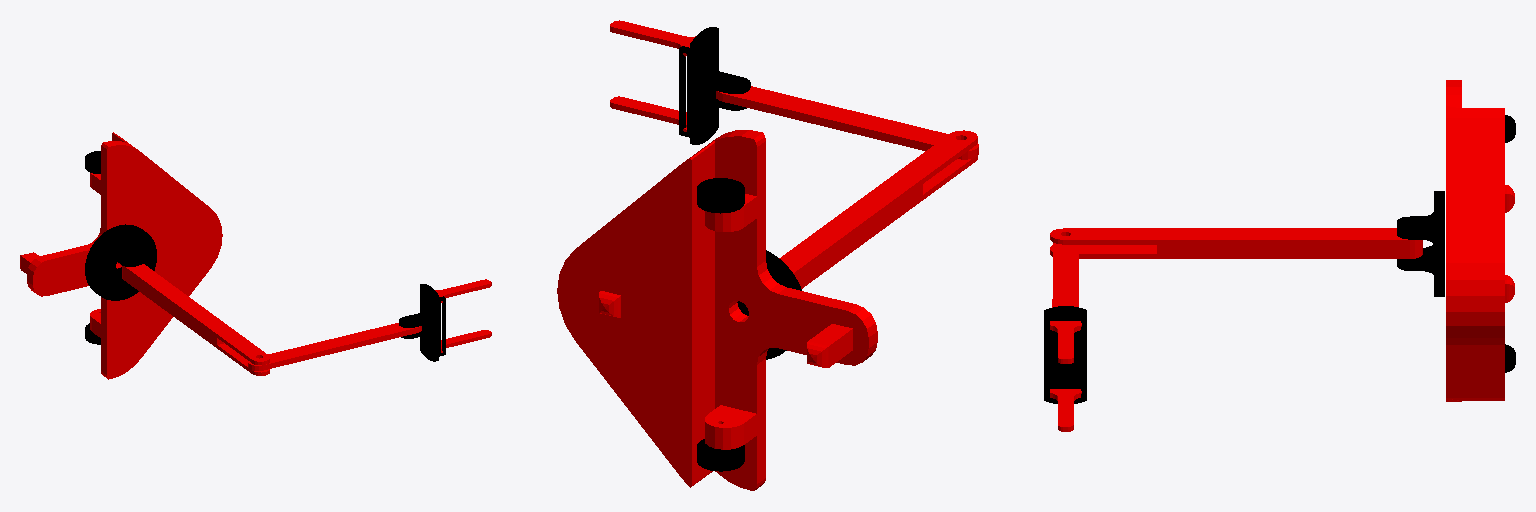
The robot description file, URDF, robot "medibot":
<?xml version="1.0" encoding="utf-8"?>
<!-- This URDF was automatically created by SolidWorks to URDF Exporter! Originally created by [author] ([email redacted]) 
     Commit Version: 1.6.0-4-g7f85cfe  Build Version: 1.6.7995.38578
     For more information, please see http://wiki.ros.org/sw_urdf_exporter -->
<robot
  name="medibot">
  <link
    name="base_link">
    <inertial>
      <origin
        xyz="0.26407 -0.20563 -2.4701E-08"
        rpy="0 0 0" />
      <mass
        value="210.34" />
      <inertia
        ixx="26.206"
        ixy="-1.1416"
        ixz="-7.5529E-06"
        iyy="38.898"
        iyz="3.5248E-07"
        izz="15.618" />
    </inertial>
    <visual>
      <origin
        xyz="0 0 0"
        rpy="0 0 0" />
      <geometry>
        <mesh
          filename="package://medibot/meshes/base_link.STL" />
      </geometry>
      <material
        name="">
        <color
          rgba="1 0 0 1" />
      </material>
    </visual>
    <collision>
      <origin
        xyz="0 0 0"
        rpy="0 0 0" />
      <geometry>
        <mesh
          filename="package://medibot/meshes/base_link.STL" />
      </geometry>
    </collision>
  </link>
  <link
    name="right_wheel_link">
    <inertial>
      <origin
        xyz="3.0531E-16 2.7756E-17 -0.0381"
        rpy="0 0 0" />
      <mass
        value="1.5322" />
      <inertia
        ixx="0.0051046"
        ixy="2.1684E-19"
        ixz="-1.3831E-19"
        iyy="0.0051046"
        iyz="4.3387E-19"
        izz="0.0091888" />
    </inertial>
    <visual>
      <origin
        xyz="0 0 0"
        rpy="0 0 0" />
      <geometry>
        <mesh
          filename="package://medibot/meshes/right_wheel_link.STL" />
      </geometry>
      <material
        name="">
        <color
          rgba="0 0 0 1" />
      </material>
    </visual>
    <collision>
      <origin
        xyz="0 0 0"
        rpy="0 0 0" />
      <geometry>
        <mesh
          filename="package://medibot/meshes/right_wheel_link.STL" />
      </geometry>
    </collision>
  </link>
  <joint
    name="right_wheel_joint"
    type="continuous">
    <origin
      xyz="0 -0.1016 -0.56515"
      rpy="0 0 0.99209" />
    <parent
      link="base_link" />
    <child
      link="right_wheel_link" />
    <axis
      xyz="0 0 1" />
  </joint>
  <link
    name="left_wheel_link">
    <inertial>
      <origin
        xyz="-2.6368E-16 1.6653E-16 0.0381"
        rpy="0 0 0" />
      <mass
        value="1.5322" />
      <inertia
        ixx="0.0051046"
        ixy="6.5052E-19"
        ixz="-3.0022E-19"
        iyy="0.0051046"
        iyz="9.2589E-19"
        izz="0.0091888" />
    </inertial>
    <visual>
      <origin
        xyz="0 0 0"
        rpy="0 0 0" />
      <geometry>
        <mesh
          filename="package://medibot/meshes/left_wheel_link.STL" />
      </geometry>
      <material
        name="">
        <color
          rgba="0 0 0 1" />
      </material>
    </visual>
    <collision>
      <origin
        xyz="0 0 0"
        rpy="0 0 0" />
      <geometry>
        <mesh
          filename="package://medibot/meshes/left_wheel_link.STL" />
      </geometry>
    </collision>
  </link>
  <joint
    name="left_wheel_joint"
    type="continuous">
    <origin
      xyz="0 -0.1016 0.56515"
      rpy="0 0 0.99209" />
    <parent
      link="base_link" />
    <child
      link="left_wheel_link" />
    <axis
      xyz="0 0 1" />
  </joint>
  <link
    name="shoulder_link">
    <inertial>
      <origin
        xyz="-0.046074 -4.6313E-17 8.8577E-18"
        rpy="0 0 0" />
      <mass
        value="12.432" />
      <inertia
        ixx="0.35557"
        ixy="1.8284E-17"
        ixz="2.6445E-17"
        iyy="0.21292"
        iyz="9.9025E-19"
        izz="0.20107" />
    </inertial>
    <visual>
      <origin
        xyz="0 0 0"
        rpy="0 0 0" />
      <geometry>
        <mesh
          filename="package://medibot/meshes/shoulder_link.STL" />
      </geometry>
      <material
        name="">
        <color
          rgba="0 0 0 1" />
      </material>
    </visual>
    <collision>
      <origin
        xyz="0 0 0"
        rpy="0 0 0" />
      <geometry>
        <mesh
          filename="package://medibot/meshes/shoulder_link.STL" />
      </geometry>
    </collision>
  </link>
  <joint
    name="shoulder_joint"
    type="revolute">
    <origin
      xyz="0 -0.33655 0"
      rpy="3.1416 0 1.5708" />
    <parent
      link="base_link" />
    <child
      link="shoulder_link" />
    <axis
      xyz="1 0 0" />
    <limit
      lower="-3.14"
      upper="3.14"
      effort="1000"
      velocity="10" />
  </joint>
  <link
    name="upper_arm_link">
    <inertial>
      <origin
        xyz="2.0161E-16 0.7122 -1.3205E-16"
        rpy="0 0 0" />
      <mass
        value="19.092" />
      <inertia
        ixx="4.0783"
        ixy="-5.1776E-16"
        ixz="-2.5741E-19"
        iyy="0.044116"
        iyz="2.4518E-16"
        izz="4.071" />
    </inertial>
    <visual>
      <origin
        xyz="0 0 0"
        rpy="0 0 0" />
      <geometry>
        <mesh
          filename="package://medibot/meshes/upper_arm_link.STL" />
      </geometry>
      <material
        name="">
        <color
          rgba="1 0 0 1" />
      </material>
    </visual>
    <collision>
      <origin
        xyz="0 0 0"
        rpy="0 0 0" />
      <geometry>
        <mesh
          filename="package://medibot/meshes/upper_arm_link.STL" />
      </geometry>
    </collision>
  </link>
  <joint
    name="upper_arm_joint"
    type="revolute">
    <origin
      xyz="-0.1778 0 0"
      rpy="1.5708 1.5708 3.1417" />
    <parent
      link="shoulder_link" />
    <child
      link="upper_arm_link" />
    <axis
      xyz="1 0 0" />
    <limit
      lower="-1.724"
      upper="1.6"
      effort="1000"
      velocity="10" />
  </joint>
  <link
    name="forearm_link">
    <inertial>
      <origin
        xyz="0 -0.5588 -3.08714524865529E-16"
        rpy="0 0 0" />
      <mass
        value="5.85882853421145" />
      <inertia
        ixx="0.727571239504238"
        ixy="7.79270320769273E-17"
        ixz="-1.34562525520913E-10"
        iyy="0.00860398076338021"
        iyz="-4.96431104018498E-17"
        izz="0.734757764586194" />
    </inertial>
    <visual>
      <origin
        xyz="0 0 0"
        rpy="0 0 0" />
      <geometry>
        <mesh
          filename="package://medibot/meshes/forearm_link.STL" />
      </geometry>
      <material
        name="">
        <color
          rgba="1 0 0 1" />
      </material>
    </visual>
    <collision>
      <origin
        xyz="0 0 0"
        rpy="0 0 0" />
      <geometry>
        <mesh
          filename="package://medibot/meshes/forearm_link.STL" />
      </geometry>
    </collision>
  </link>
  <joint
    name="forearm_joint"
    type="revolute">
    <origin
      xyz="0 1.6256 0"
      rpy="-1.5708 0 1.5708" />
    <parent
      link="upper_arm_link" />
    <child
      link="forearm_link" />
    <axis
      xyz="0 0 1" />
    <limit
      lower="-1.278"
      upper="4.421"
      effort="1000"
      velocity="10" />
  </joint>
  <link
    name="wrist_link">
    <inertial>
      <origin
        xyz="-0.118648814072355 -2.44680794939558E-16 -4.44089209850063E-16"
        rpy="0 0 0" />
      <mass
        value="4.35433420414567" />
      <inertia
        ixx="0.0793234207582875"
        ixy="3.48443075169667E-18"
        ixz="-4.28268639274364E-18"
        iyy="0.0309744477679611"
        iyz="7.01449159444982E-19"
        izz="0.0792232632613355" />
    </inertial>
    <visual>
      <origin
        xyz="0 0 0"
        rpy="0 0 0" />
      <geometry>
        <mesh
          filename="package://medibot/meshes/wrist_link.STL" />
      </geometry>
      <material
        name="">
        <color
          rgba="0 0 0 1" />
      </material>
    </visual>
    <collision>
      <origin
        xyz="0 0 0"
        rpy="0 0 0" />
      <geometry>
        <mesh
          filename="package://medibot/meshes/wrist_link.STL" />
      </geometry>
    </collision>
  </link>
  <joint
    name="wrist_joint"
    type="revolute">
    <origin
      xyz="0 -1.1176 0"
      rpy="1.5708 0 1.5708" />
    <parent
      link="forearm_link" />
    <child
      link="wrist_link" />
    <axis
      xyz="0 1 0" />
    <limit
      lower="-2.065"
      upper="2.065"
      effort="1000"
      velocity="10" />
  </joint>
  <link
    name="left_finger_link">
    <inertial>
      <origin
        xyz="0.190057084391042 0.0127 4.44089209850063E-16"
        rpy="0 0 0" />
      <mass
        value="0.954391471331755" />
      <inertia
        ixx="0.000881419815259494"
        ixy="6.72210099030885E-20"
        ixz="-4.57361267253083E-19"
        iyy="0.0171927460500775"
        iyz="1.62287750665423E-19"
        izz="0.0164130909530631" />
    </inertial>
    <visual>
      <origin
        xyz="0 0 0"
        rpy="0 0 0" />
      <geometry>
        <mesh
          filename="package://medibot/meshes/left_finger_link.STL" />
      </geometry>
      <material
        name="">
        <color
          rgba="1 0 0 1" />
      </material>
    </visual>
    <collision>
      <origin
        xyz="0 0 0"
        rpy="0 0 0" />
      <geometry>
        <mesh
          filename="package://medibot/meshes/left_finger_link.STL" />
      </geometry>
    </collision>
  </link>
  <joint
    name="left_finger_joint"
    type="prismatic">
    <origin
      xyz="-0.15875 -0.16484 0"
      rpy="0 0 3.1416" />
    <parent
      link="wrist_link" />
    <child
      link="left_finger_link" />
    <axis
      xyz="0 1 0" />
    <limit
      lower="0"
      upper="0.16"
      effort="0"
      velocity="0" />
  </joint>
  <link
    name="right_finger_link">
    <inertial>
      <origin
        xyz="0.190057084391041 0.0127 4.44089209850063E-16"
        rpy="0 0 0" />
      <mass
        value="0.954391471331755" />
      <inertia
        ixx="0.000881419815259493"
        ixy="6.18099304954257E-20"
        ixz="5.61142716223079E-18"
        iyy="0.0171927460500775"
        iyz="-1.31288886796317E-19"
        izz="0.016413090953063" />
    </inertial>
    <visual>
      <origin
        xyz="0 0 0"
        rpy="0 0 0" />
      <geometry>
        <mesh
          filename="package://medibot/meshes/right_finger_link.STL" />
      </geometry>
      <material
        name="">
        <color
          rgba="1 0 0 1" />
      </material>
    </visual>
    <collision>
      <origin
        xyz="0 0 0"
        rpy="0 0 0" />
      <geometry>
        <mesh
          filename="package://medibot/meshes/right_finger_link.STL" />
      </geometry>
    </collision>
  </link>
  <joint
    name="right_finger_joint"
    type="prismatic">
    <origin
      xyz="-0.15875 0.1649 0"
      rpy="3.1416 0 3.1416" />
    <parent
      link="wrist_link" />
    <child
      link="right_finger_link" />
    <axis
      xyz="0 1 0" />
    <limit
      lower="0"
      upper="0.16"
      effort="0"
      velocity="0" />
  </joint>


  <!-- ros2_control hardware interface for Gazebo -->
  <ros2_control name="GazeboSimSystem" type="system">
    <hardware>
      <plugin>gz_ros2_control/GazeboSimSystem</plugin>
    </hardware>

    <!-- Differential drive wheels: velocity-controlled -->
    <joint name="left_wheel_joint">
      <command_interface name="velocity"/>
      <state_interface name="position"/>
      <state_interface name="velocity"/>
    </joint>

    <joint name="right_wheel_joint">
      <command_interface name="velocity"/>
      <state_interface name="position"/>
      <state_interface name="velocity"/>
    </joint>

    <!-- Arm joints: position-controlled -->
    <joint name="shoulder_joint">
      <command_interface name="position"/>
      <state_interface name="position"/>
      <state_interface name="velocity"/>
    </joint>

    <joint name="upper_arm_joint">
      <command_interface name="position"/>
      <state_interface name="position"/>
      <state_interface name="velocity"/>
    </joint>

    <joint name="forearm_joint">
      <command_interface name="position"/>
      <state_interface name="position"/>
      <state_interface name="velocity"/>
    </joint>

    <joint name="wrist_joint">
      <command_interface name="position"/>
      <state_interface name="position"/>
      <state_interface name="velocity"/>
    </joint>

    <!-- Gripper fingers: position-controlled prismatic joints -->
    <joint name="left_finger_joint">
      <command_interface name="position"/>
      <state_interface name="position"/>
      <state_interface name="velocity"/>
    </joint>

    <joint name="right_finger_joint">
      <command_interface name="position"/>
      <state_interface name="position"/>
      <state_interface name="velocity"/>
    </joint>
  </ros2_control>

  <gazebo>
    <plugin filename="gz_ros2_control-system"
            name="gz_ros2_control::GazeboSimROS2ControlPlugin">
      <!-- Where to read URDF from -->
          <parameters>[local-path]/hospital_ws/install/medibot/share/medibot/config/medibot_controllers.yaml</parameters>
      <robot_param>robot_description</robot_param>
      <robot_param_node>robot_state_publisher</robot_param_node>
    </plugin>
  </gazebo>
</robot>

--- What the picture shows (computed from the rendered views, not written in the file) ---
Views: 3 orthographic renders of the robot side by side, from view 1: azimuth 30°, elevation 25°; view 2: azimuth 150°, elevation 25°; view 3: azimuth 270°, elevation 25°.
Robot: medibot — 9 links, 8 joints (4 revolute, 2 continuous, 2 prismatic); root link base_link; default pose: all joints at 0.
Links seen in each view (by area): view 1: base_link, upper_arm_link, shoulder_link, forearm_link, wrist_link; view 2: base_link, upper_arm_link, forearm_link, wrist_link, left_wheel_link, left_finger_link, right_wheel_link, right_finger_link, shoulder_link; view 3: base_link, upper_arm_link, wrist_link, shoulder_link, forearm_link, left_finger_link, right_finger_link.
Boxes of the visible links, left/top/right/bottom form: base_link: left=20, top=132, right=222, bottom=379; upper_arm_link: left=122, top=264, right=269, bottom=375; shoulder_link: left=85, top=224, right=156, bottom=300; forearm_link: left=248, top=323, right=421, bottom=370; wrist_link: left=399, top=284, right=445, bottom=361; base_link: left=557, top=130, right=877, bottom=490; upper_arm_link: left=779, top=130, right=977, bottom=288; forearm_link: left=716, top=86, right=978, bottom=159; wrist_link: left=679, top=27, right=750, bottom=144; left_wheel_link: left=697, top=178, right=744, bottom=213; left_finger_link: left=610, top=20, right=695, bottom=56; right_wheel_link: left=697, top=439, right=744, bottom=471; right_finger_link: left=610, top=96, right=686, bottom=131; shoulder_link: left=737, top=250, right=801, bottom=359; base_link: left=1446, top=80, right=1514, bottom=401; upper_arm_link: left=1050, top=228, right=1422, bottom=258; wrist_link: left=1044, top=306, right=1086, bottom=403; shoulder_link: left=1397, top=191, right=1444, bottom=296; forearm_link: left=1052, top=243, right=1078, bottom=307; left_finger_link: left=1050, top=321, right=1081, bottom=363; right_finger_link: left=1050, top=389, right=1081, bottom=431.
Bounding box of the posed robot: 2.34 × 2.24 × 1.65 m (x, y, z).
9 mesh visuals loaded from 9 distinct referenced files (9 binary STL).
